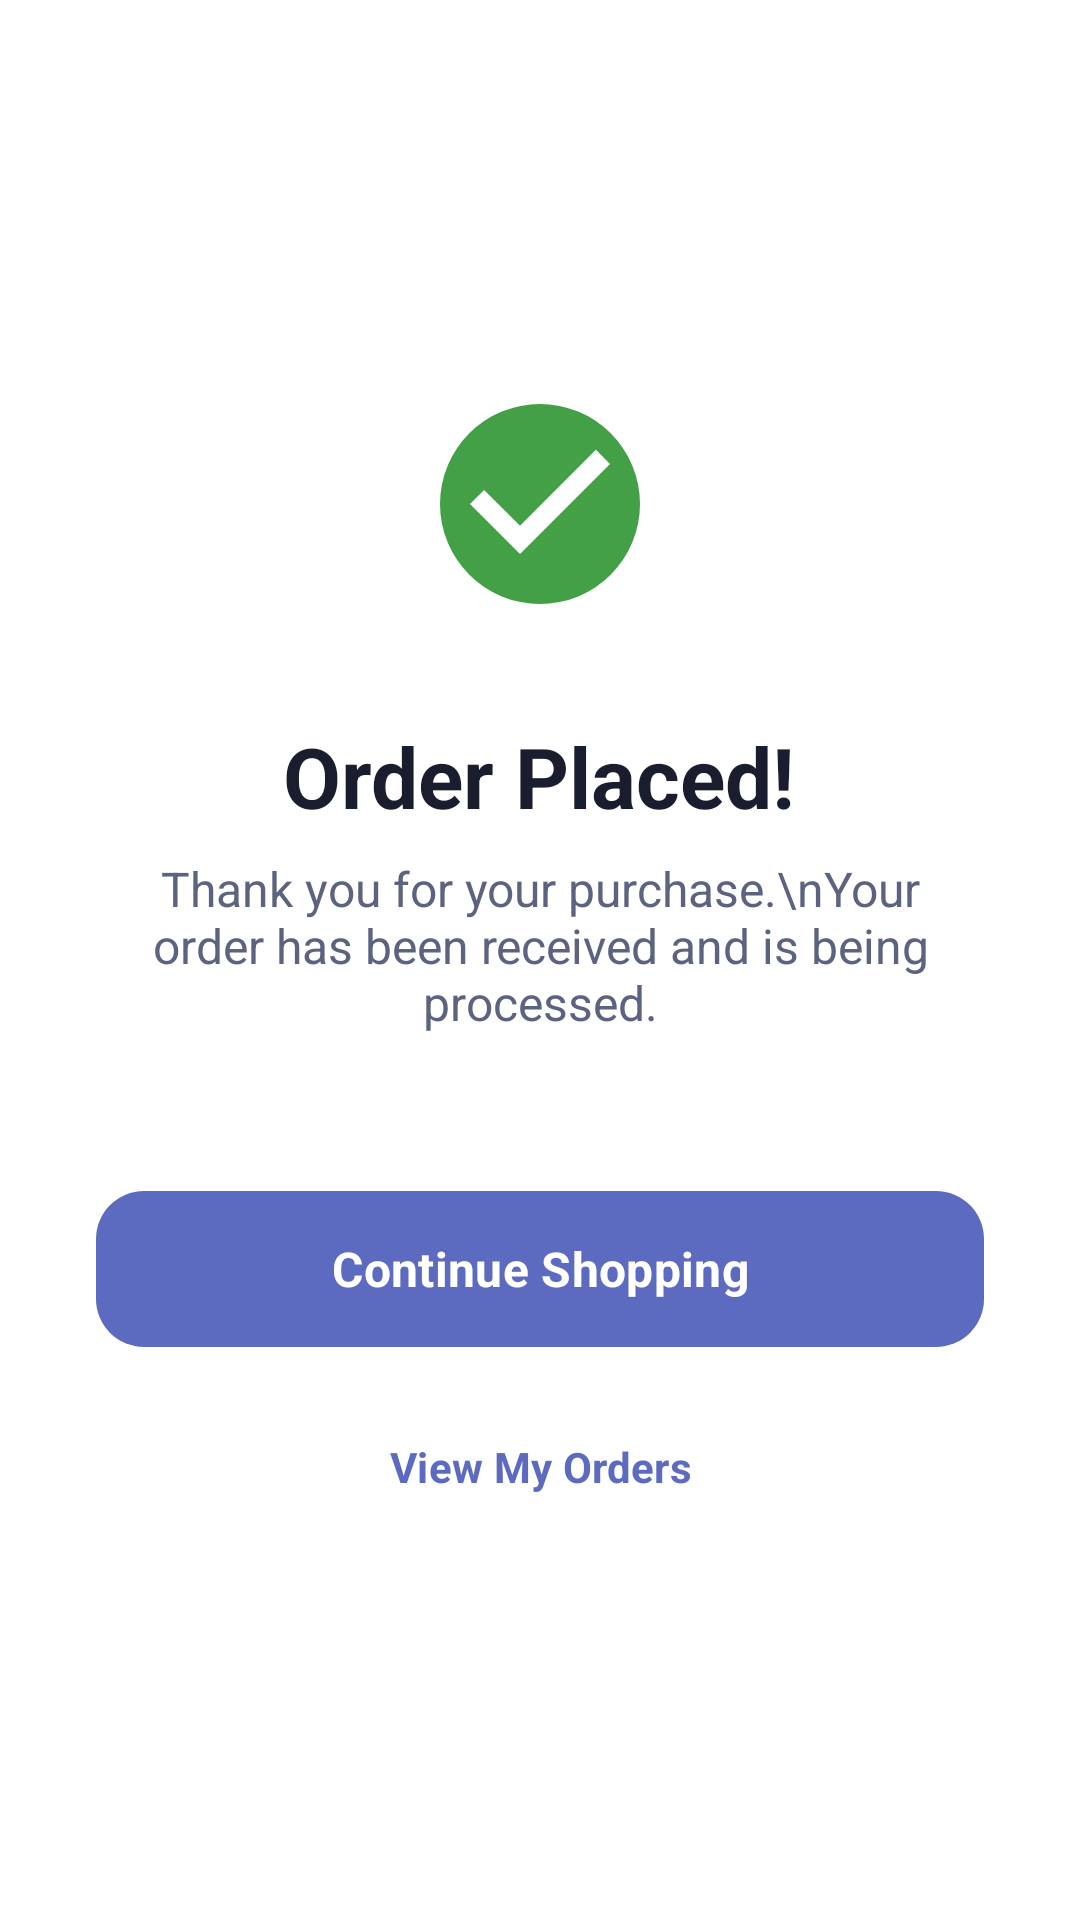

Icons on this 1080w x 1920h Android screen, each with its box as (x1, y1, x2, y2):
check circle: (440, 404, 640, 604)
